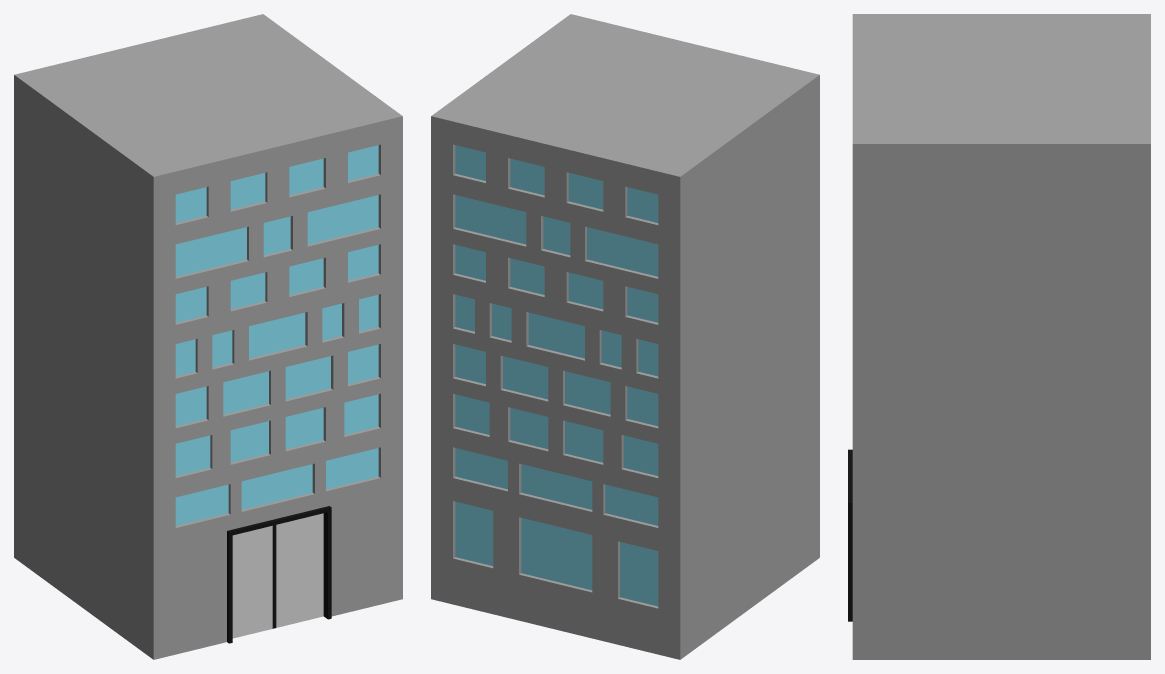
Rendered from building1.obj.
3 renders of one model, left to right at view 1: azimuth 30°, elevation 25°; view 2: azimuth 150°, elevation 25°; view 3: azimuth 270°, elevation 25°, orthographic. The views are drawn at different scales.
Size of the model in its own units: 6.8 by 12.6 by 6.7.
1 material, 1 textured.
